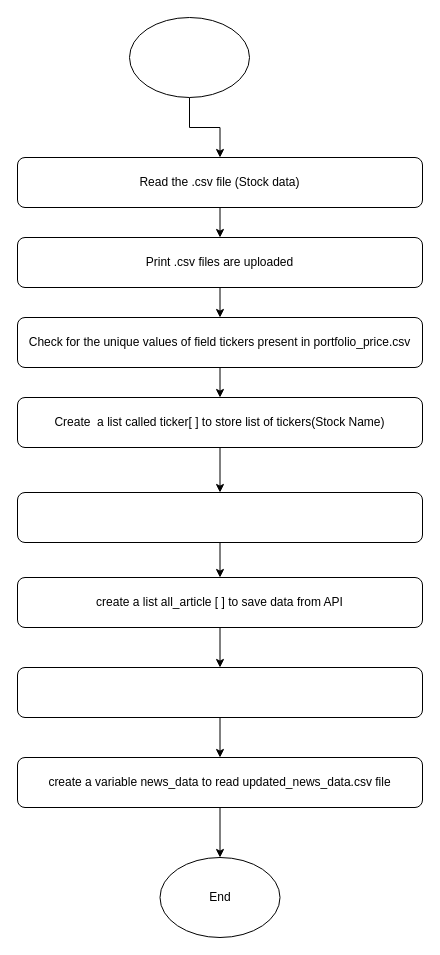
This 440x955 diagram has some shape labels left out. The shapes that lost their labels are listed below. From the top down, each one's centre as x and y in pixels, then its label:
At point (189, 57): "Start".
At point (219, 517): "Define the date interval".
At point (219, 692): "Create a file updated_news_data.csv to store the results form API".
